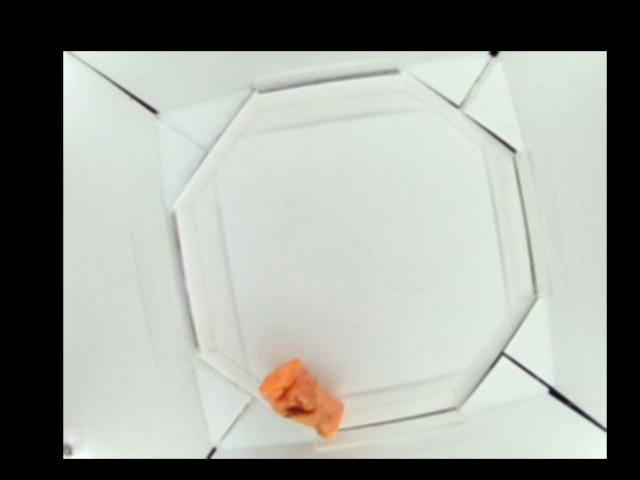Carrot: (258, 358, 342, 437)
